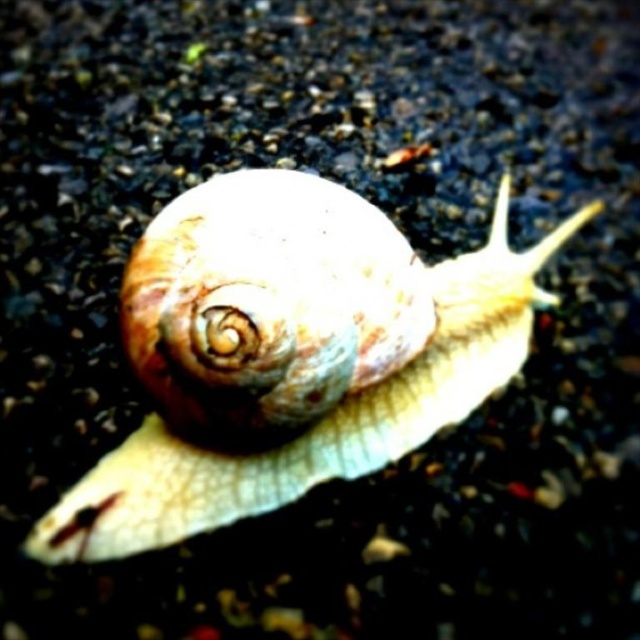Snail: (20, 165, 605, 565)
